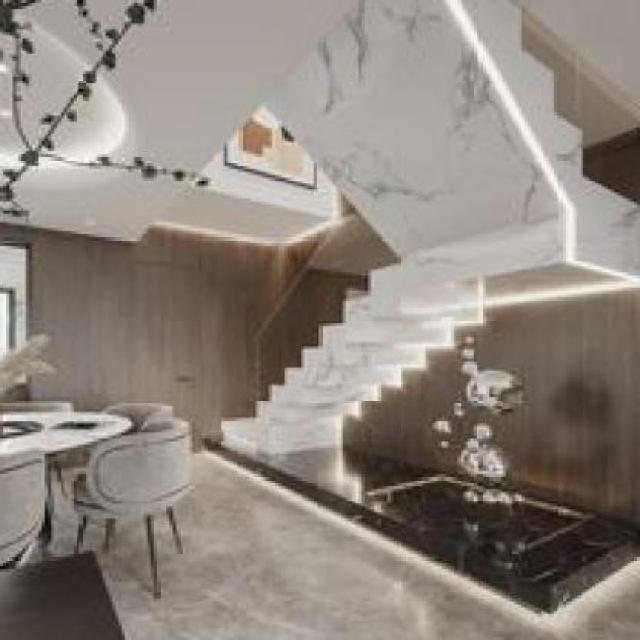stair: (208, 254, 448, 466)
